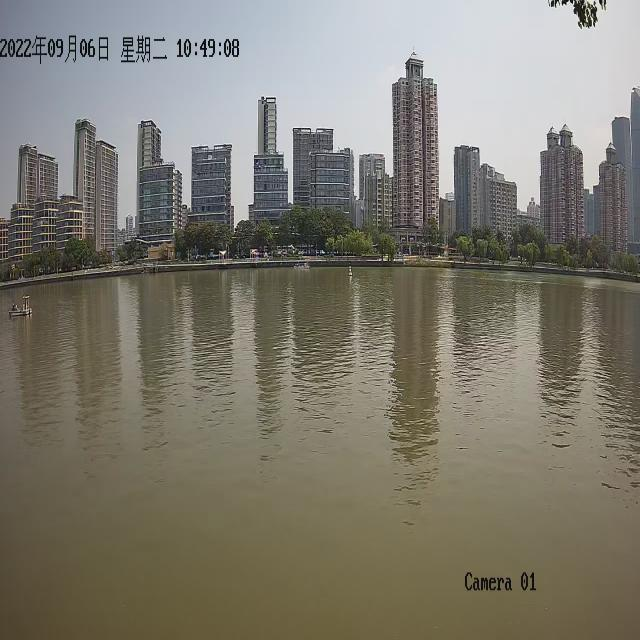ship: (8, 294, 32, 316), (292, 258, 310, 268)
